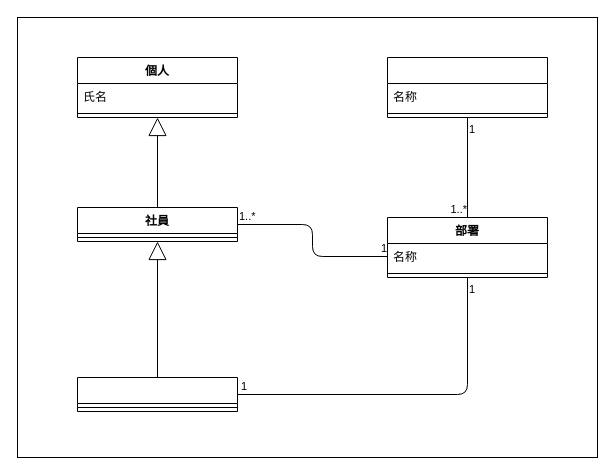
The diagram is 615 pixels wide and 475 high, and some of its shapes have lost their labels. Here are the shapes that lost their labels. From the top down, the box of each, then its label:
(386, 56, 548, 118): 会社
(76, 376, 238, 412): 部長
